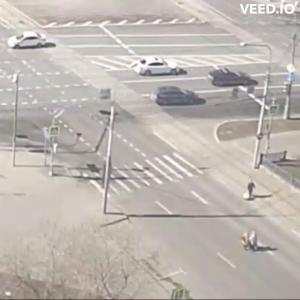car: (156, 87, 208, 109), (8, 32, 58, 51), (210, 70, 259, 89), (136, 62, 186, 78)
